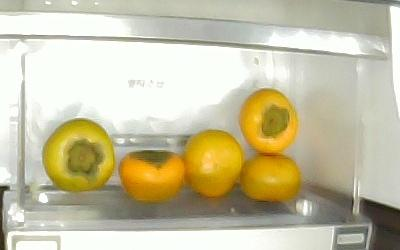persimmon: (40, 116, 115, 191), (237, 87, 298, 154), (183, 129, 243, 196), (119, 150, 186, 202), (238, 152, 300, 202)
